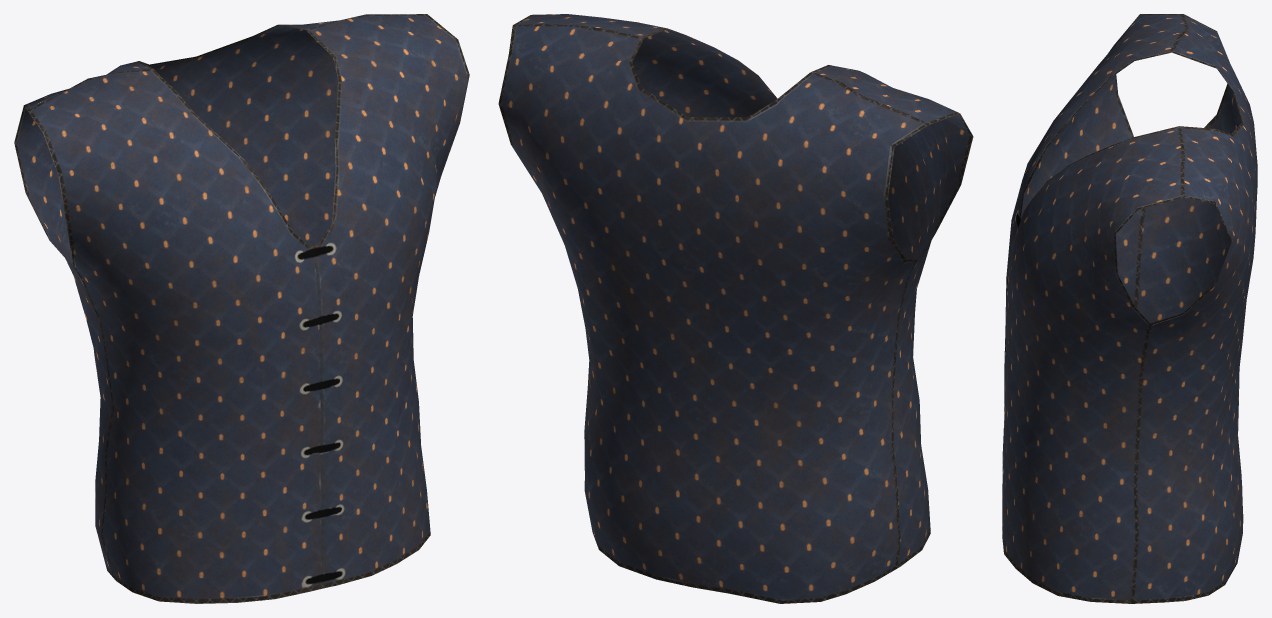
File: vest_armor.glb
3 renders of one model, left to right at view 1: azimuth 30°, elevation 25°; view 2: azimuth 150°, elevation 25°; view 3: azimuth 270°, elevation 25°, orthographic. The views are drawn at different scales.
Parts seen in each view (by area): view 1: Vest; view 2: Vest; view 3: Vest.
Part boxes in pixels (left/top/right/bottom): Vest: left=14, top=14, right=469, bottom=603; Vest: left=498, top=14, right=973, bottom=603; Vest: left=1002, top=14, right=1257, bottom=603.
Size of the model in its own units: 55.91 by 63.73 by 31.9.
1 material, 1 textured.
